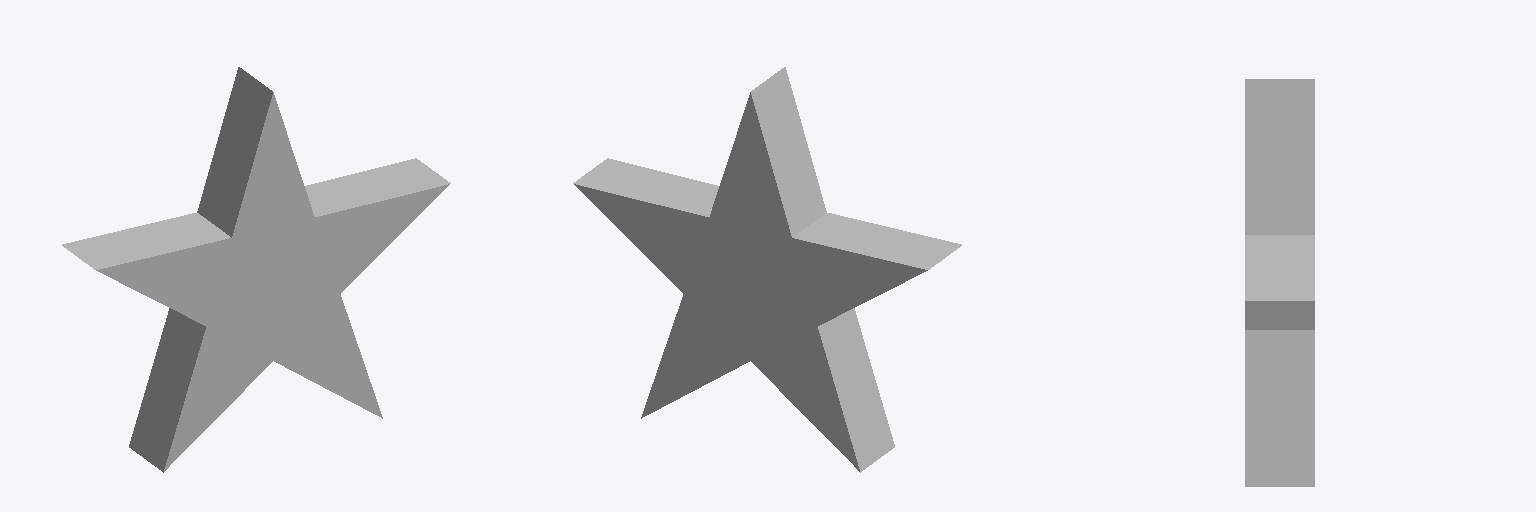
File: STAR.OBJ
3 renders of one model, left to right at view 1: azimuth 30°, elevation 25°; view 2: azimuth 150°, elevation 25°; view 3: azimuth 270°, elevation 25°, orthographic.
Visible parts, largest first — view 1: Cylinder; view 2: Cylinder; view 3: Cylinder.
Part boxes in pixels (bbox=[...]): Cylinder: bbox=[62, 67, 450, 472]; Cylinder: bbox=[573, 67, 961, 472]; Cylinder: bbox=[1245, 79, 1314, 486].
Size of the model in its own units: 3.16 by 3.01 by 0.5364.